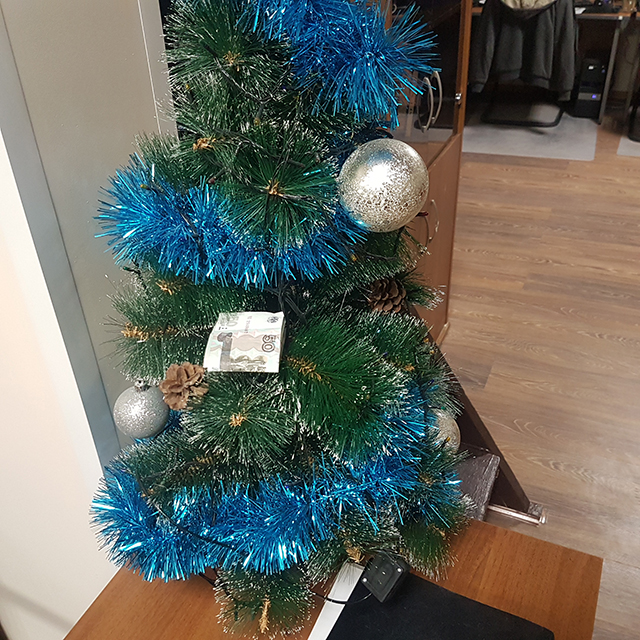banknotes: (201, 310, 286, 374)
